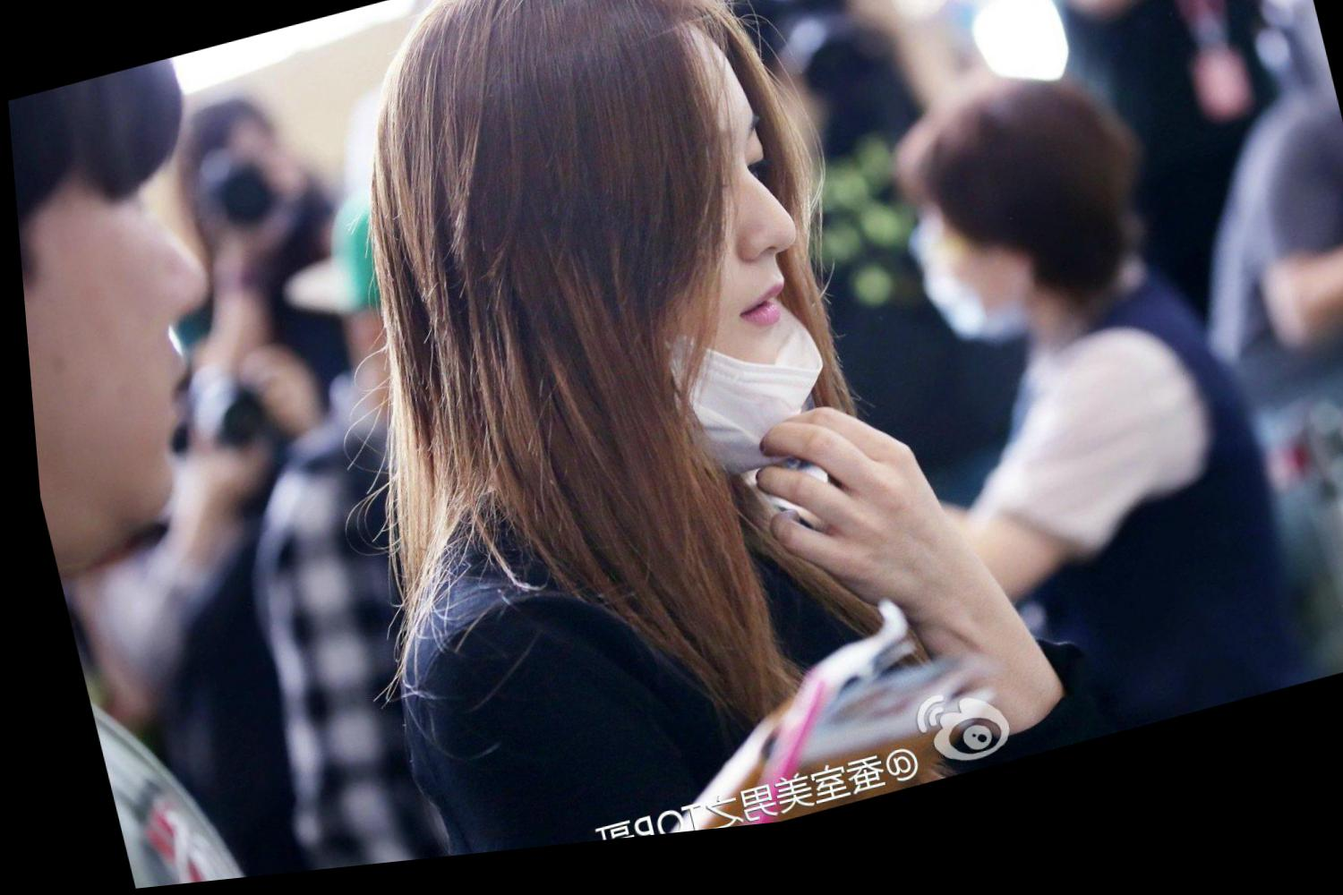NONE: (25, 127, 268, 569)
OK: (891, 205, 1027, 388)
WRONG: (616, 102, 823, 434)
